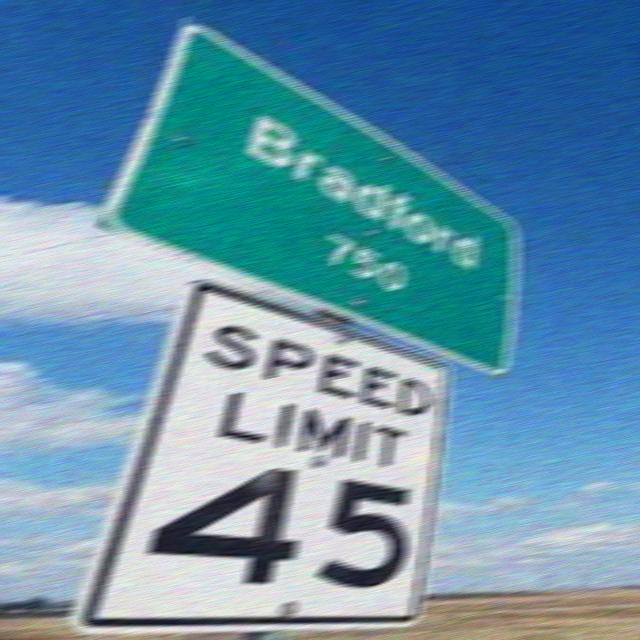speedLimit45: (66, 318, 449, 627)
